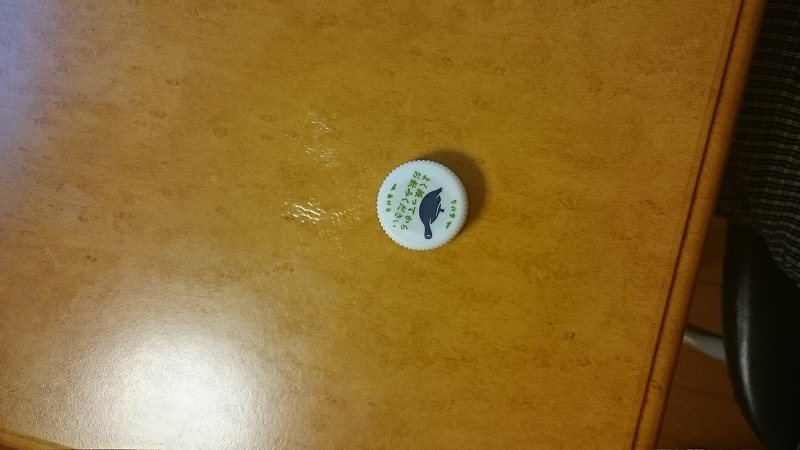A: (369, 155, 477, 256)
